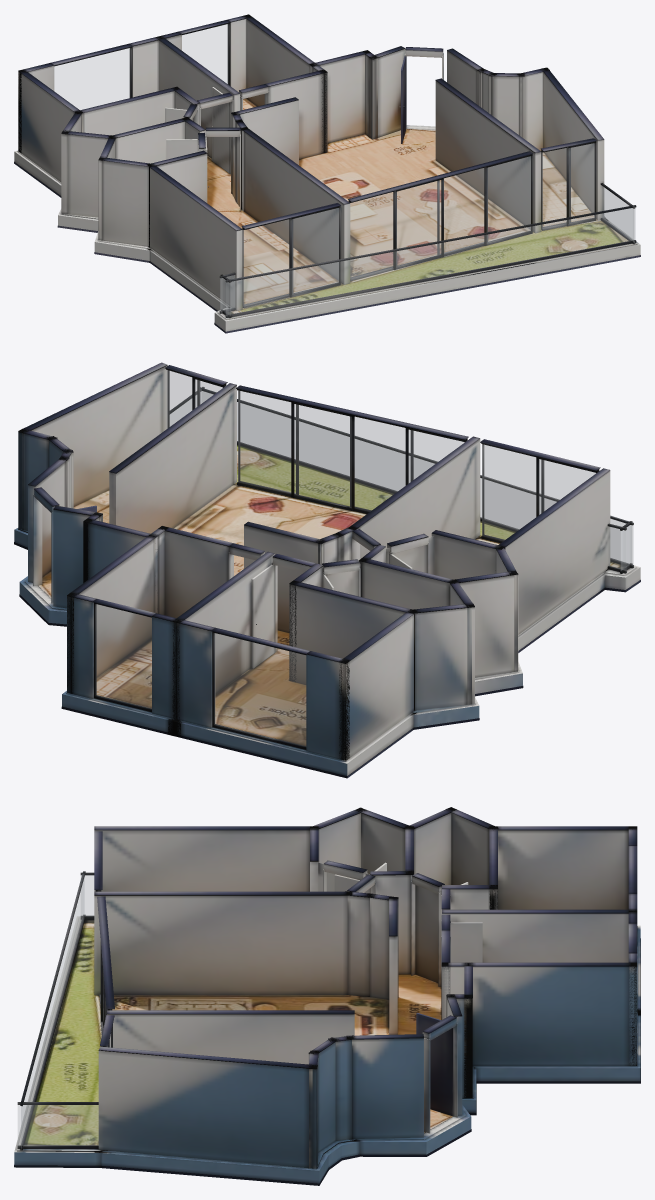
The picture shows the model from 3 angles, top to bottom: view 1: azimuth 30°, elevation 25°; view 2: azimuth 150°, elevation 25°; view 3: azimuth 270°, elevation 25°; orthographic projection. The views are drawn at different scales.
Visible parts, largest first — view 1: plan, railg2_m, glass3_m, glass2_m, glass4_m, glass0_m, glass1_m, railg0_m; view 2: plan, glass3_m, railg2_m, glass0_m, glass2_m, glass1_m, glass4_m, railg3_m; view 3: plan, railg0_m, railg2_m.
Boxes of the visible parts, bbox=[...] form: plan: bbox=[14, 14, 640, 333]; railg2_m: bbox=[226, 208, 635, 315]; glass3_m: bbox=[350, 156, 530, 278]; glass2_m: bbox=[243, 208, 338, 305]; glass4_m: bbox=[542, 143, 594, 227]; glass0_m: bbox=[54, 48, 130, 109]; glass1_m: bbox=[182, 24, 228, 83]; railg0_m: bbox=[602, 186, 634, 241]; plan: bbox=[14, 362, 640, 778]; glass3_m: bbox=[238, 390, 464, 511]; railg2_m: bbox=[202, 391, 633, 564]; glass0_m: bbox=[214, 633, 305, 746]; glass2_m: bbox=[482, 444, 595, 540]; glass1_m: bbox=[96, 604, 151, 708]; glass4_m: bbox=[167, 370, 222, 428]; railg3_m: bbox=[608, 527, 626, 569]; plan: bbox=[14, 807, 640, 1185]; railg0_m: bbox=[18, 1105, 98, 1145]; railg2_m: bbox=[21, 879, 84, 1149].
Size of the model in its own units: 12.88 by 2.62 by 12.87.
2 materials, 1 textured.
